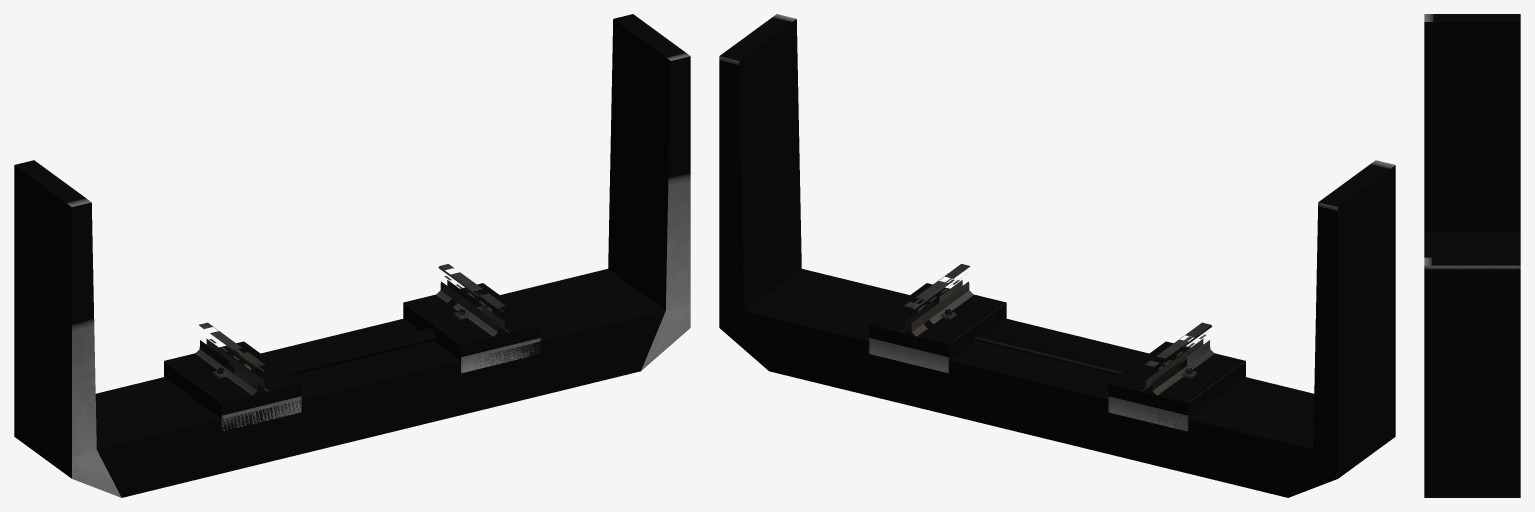
The model's file is concretebridge_lr.obj.
The picture shows the model from 3 angles, left to right: view 1: azimuth 30°, elevation 25°; view 2: azimuth 150°, elevation 25°; view 3: azimuth 270°, elevation 25°; orthographic projection. The views are drawn at different scales.
Parts seen in each view (by area): view 1: cube, cuboid, rail; view 2: cube, cuboid, rail; view 3: cube.
Part boxes in pixels (x1,y1,x2,y2): cube: (14,14,690,497); cuboid: (164,283,540,430); rail: (195,264,509,395); cube: (719,14,1395,497); cuboid: (869,283,1245,431); rail: (900,264,1214,395); cube: (1424,14,1520,497).
Bounding box in the file's own units: 3.88 × 1.81 × 0.625.
2 materials, 2 textured.
